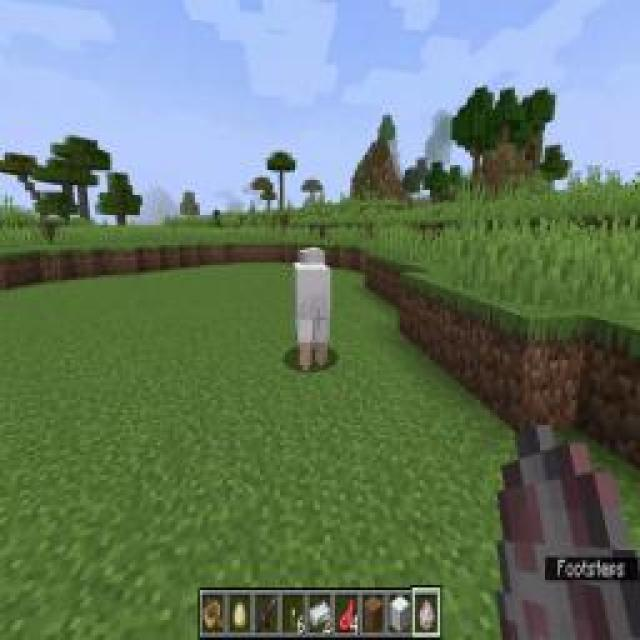Sheep: (292, 244, 332, 376)
